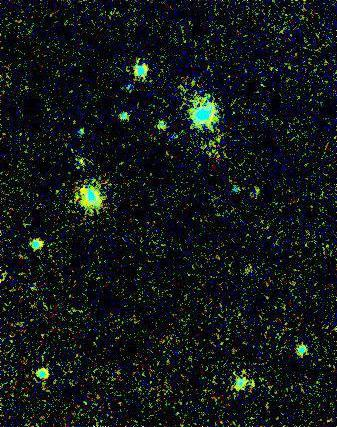star: (59, 143, 89, 173)
